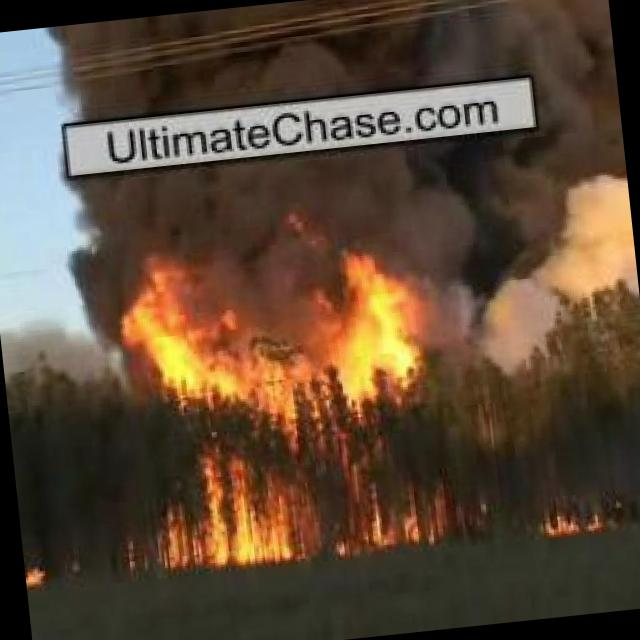Fire: (132, 240, 442, 574), (536, 504, 611, 534), (27, 563, 45, 587)
Smoke: (69, 120, 632, 279), (44, 0, 614, 120)
